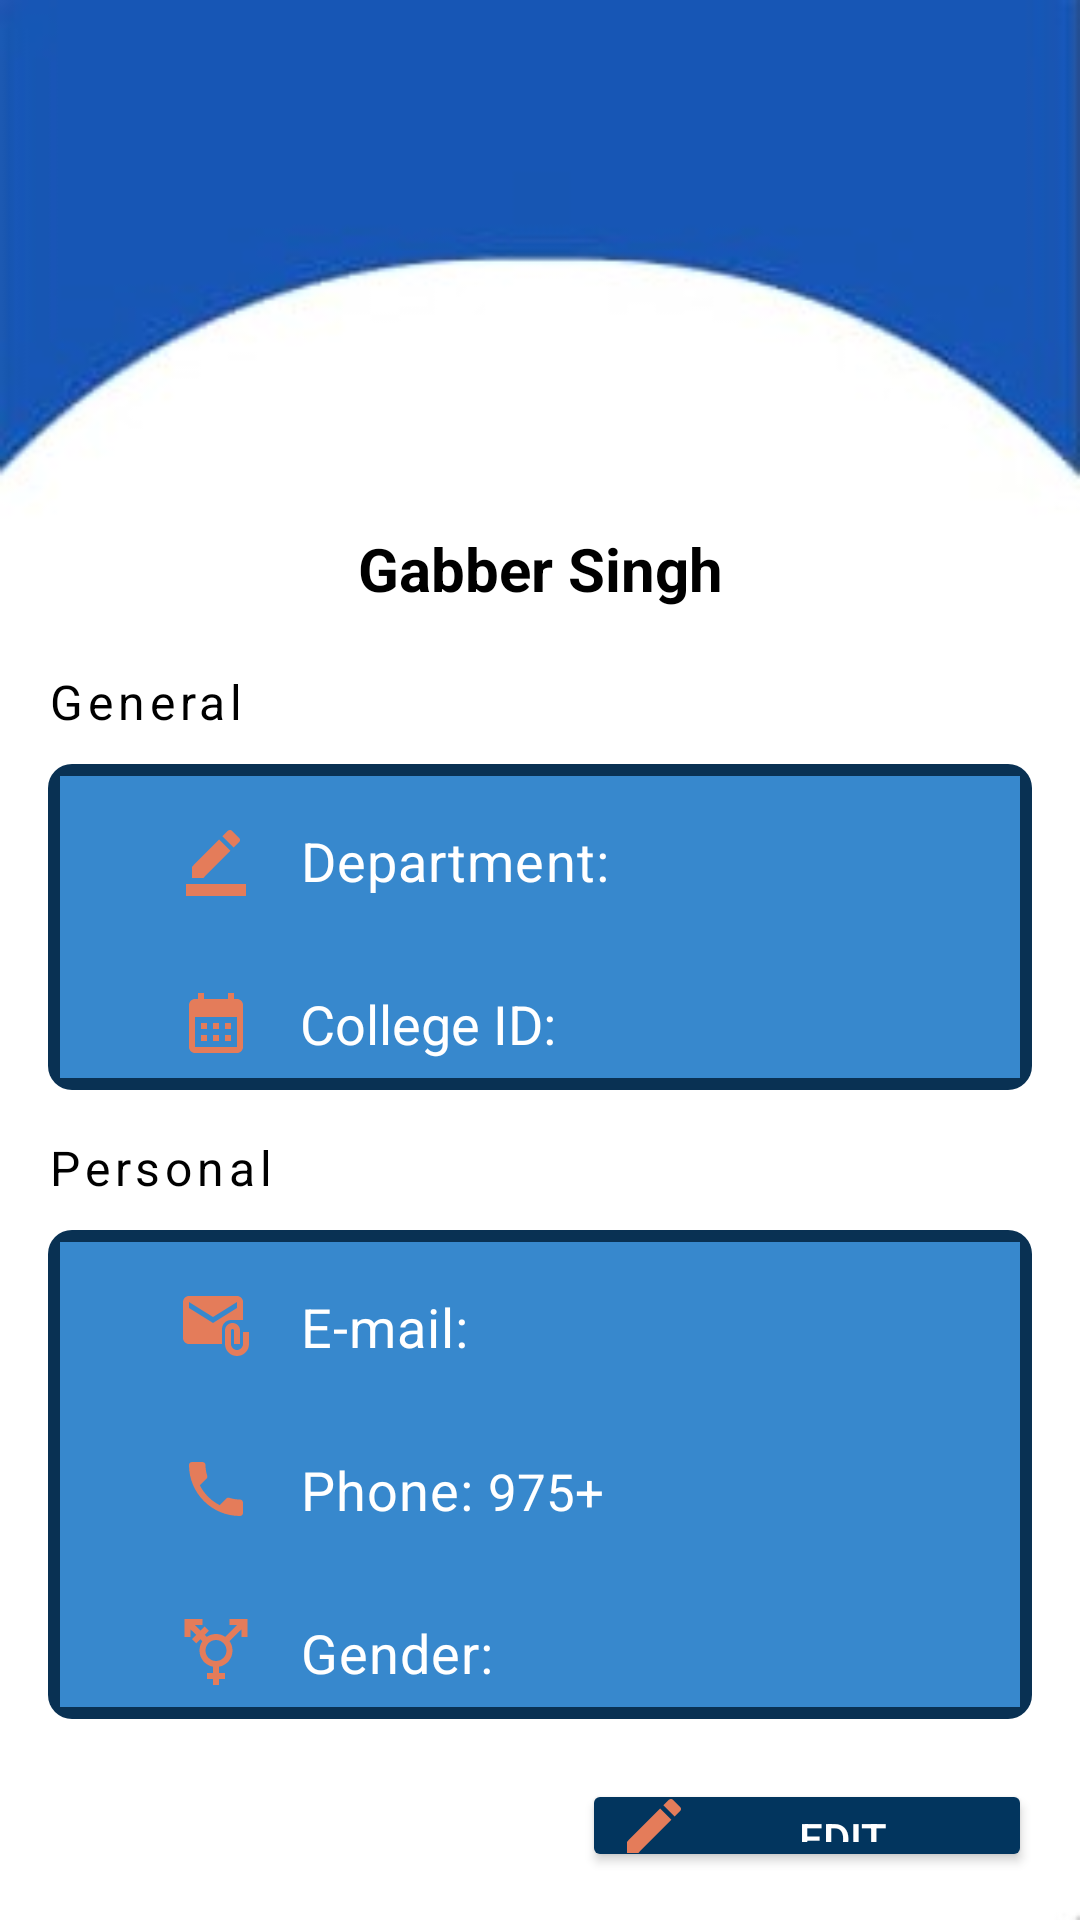

Point at icon controls on the screen. Image size 1080px×1920px, points as (x=x, y=y).
Year Icon: (x=216, y=1023)
